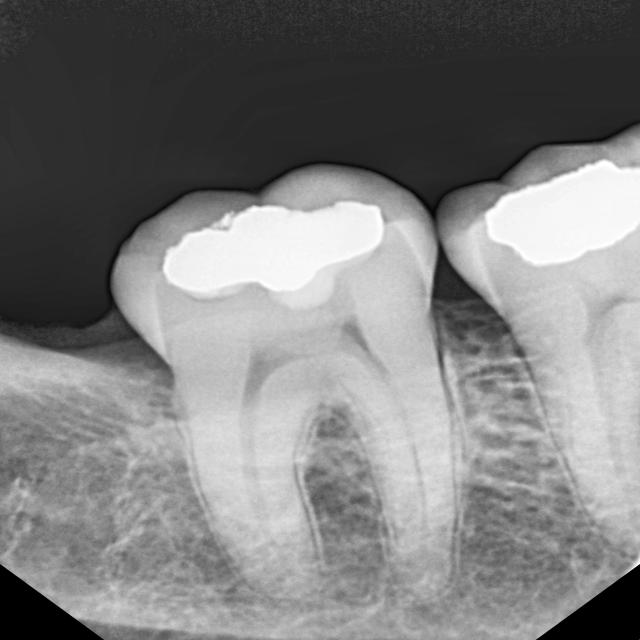Restoration: (90, 175, 469, 434)
